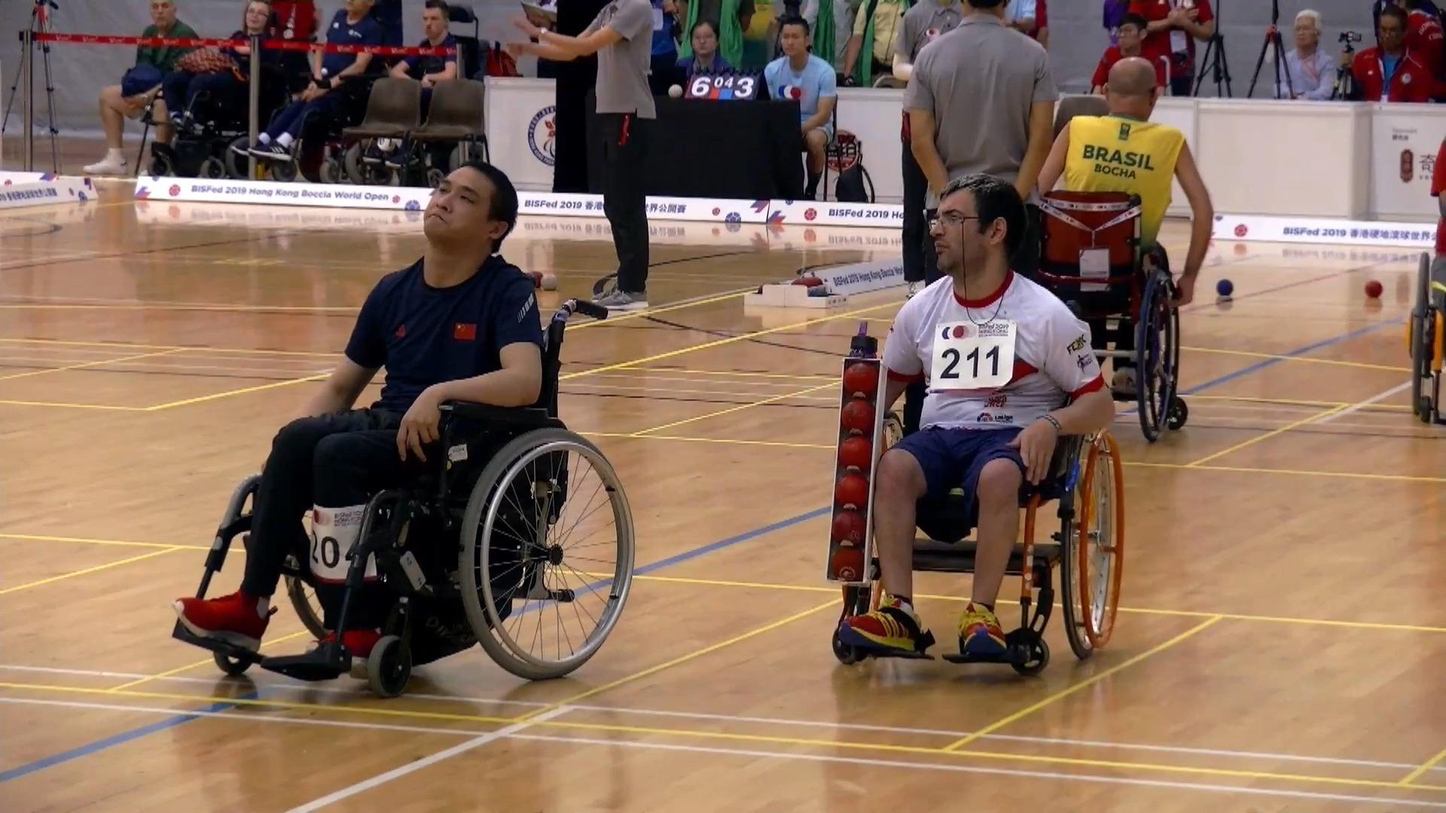blue_ball: (1214, 278, 1236, 300)
red_ball: (1360, 277, 1384, 301), (528, 264, 546, 287)
white_ball: (538, 269, 562, 292)
